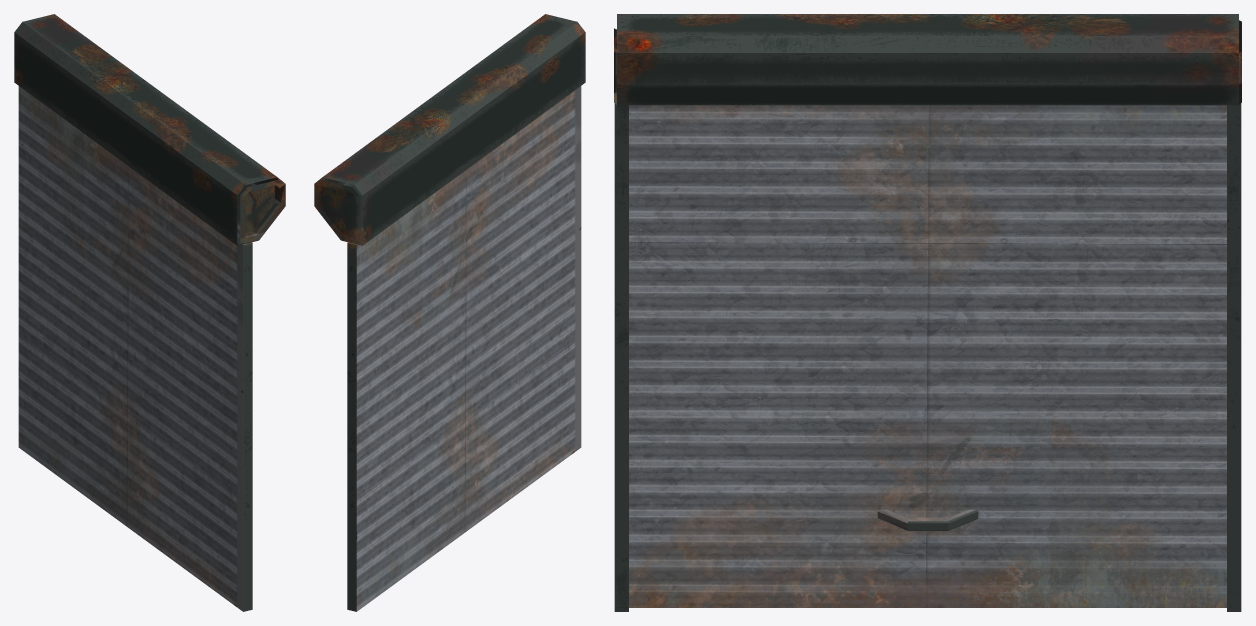
The model's file is newgarage.fbx.
3 renders of one model, left to right at view 1: azimuth 30°, elevation 25°; view 2: azimuth 150°, elevation 25°; view 3: azimuth 270°, elevation 25°, orthographic. The views are drawn at different scales.
Visible parts, largest first — view 1: garage_door; view 2: garage_door; view 3: garage_door.
Part boxes in pixels (bbox=[...]): garage_door: bbox=[14, 14, 285, 611]; garage_door: bbox=[314, 14, 585, 611]; garage_door: bbox=[614, 14, 1241, 611].
Size of the model in its own units: 71.21 by 601 by 576.
